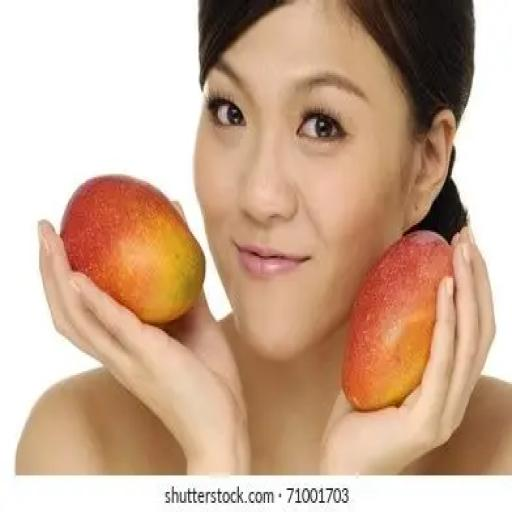mango: (61, 174, 205, 325), (341, 231, 453, 411)
